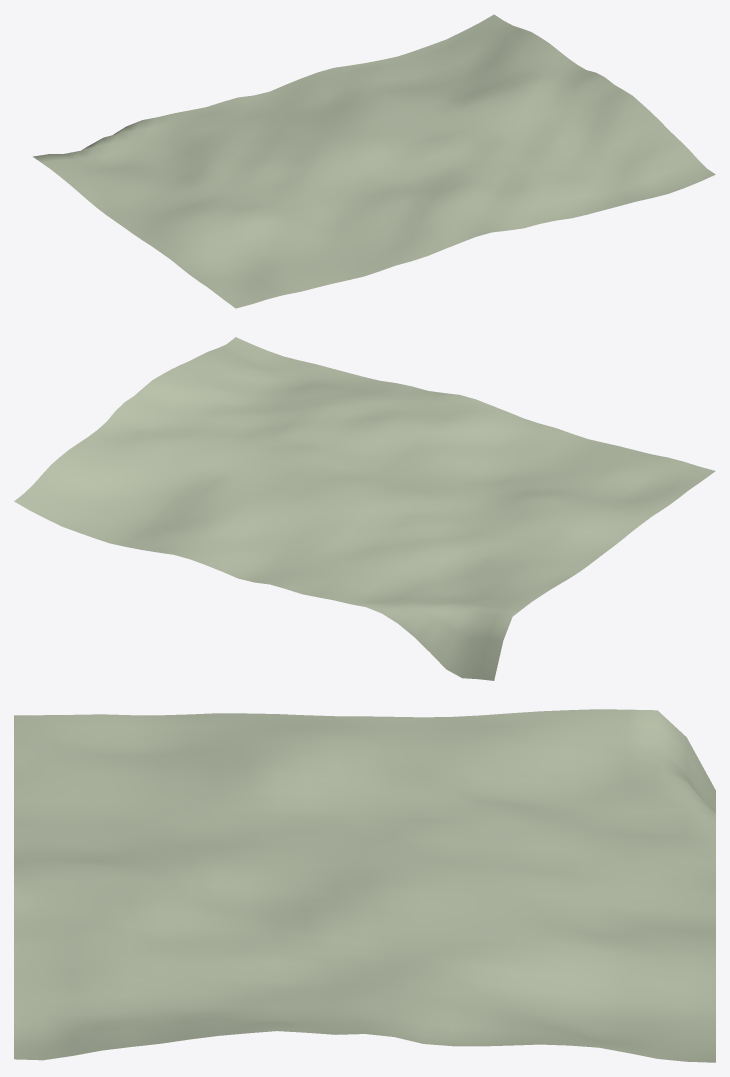
3 views of the same model, one above another, from view 1: azimuth 30°, elevation 25°; view 2: azimuth 150°, elevation 25°; view 3: azimuth 270°, elevation 25° (orthographic). The views are drawn at different scales.
Visible parts, largest first — view 1: world-ground/150-96; view 2: world-ground/150-96; view 3: world-ground/150-96.
Boxes of the visible parts, bbox=[...] form: world-ground/150-96: bbox=[33, 14, 715, 308]; world-ground/150-96: bbox=[14, 337, 715, 680]; world-ground/150-96: bbox=[14, 709, 715, 1062].
Size of the model in its own units: 37.5 by 6.52 by 30.
